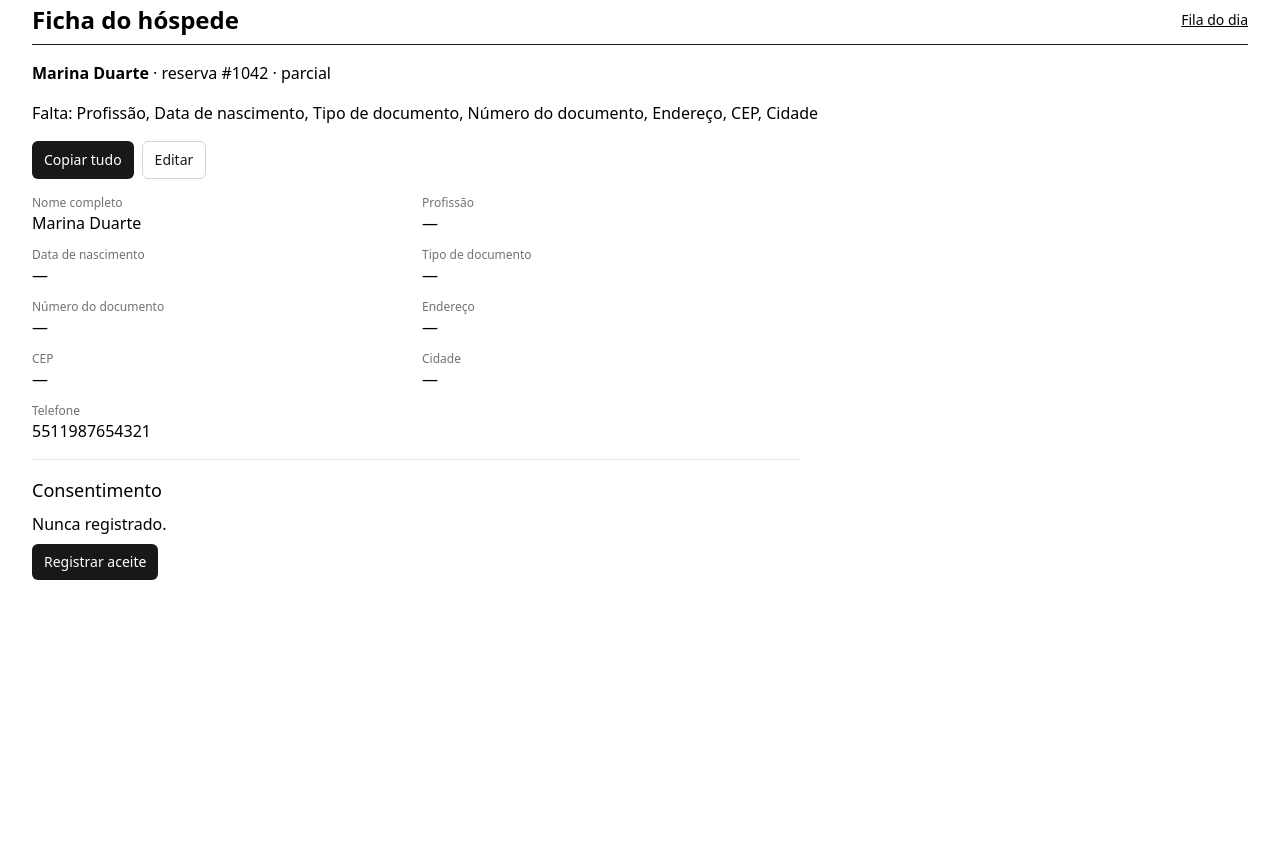
TelaFicha › 409 de documento avisa com nome e liga para a ficha desta casa
Step 1. Click the button "Editar" → click(174, 160), box [142,141,206,179]
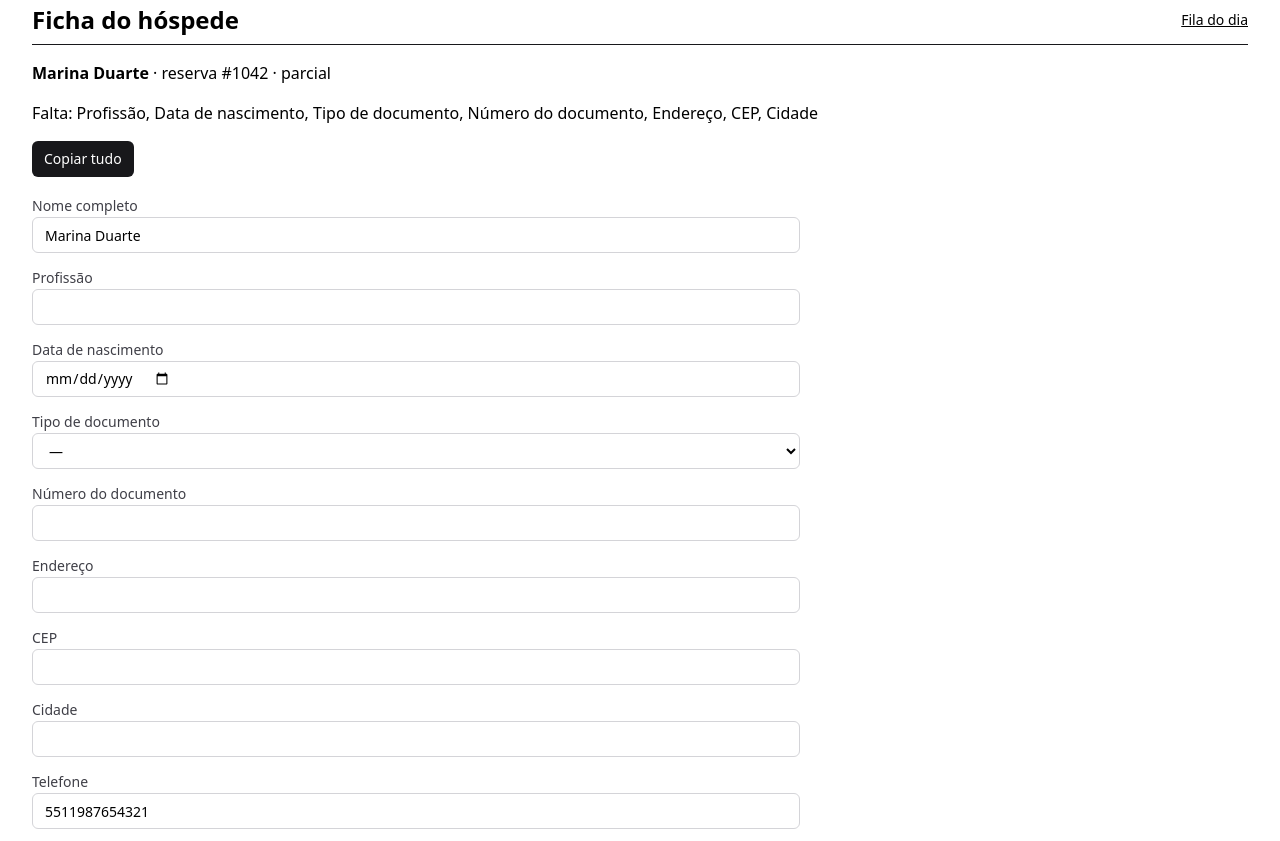
Step 2. Replace the text in the field labelled "Nome completo" with "Nome digitado agora" → (416, 235), box [32,217,800,253]
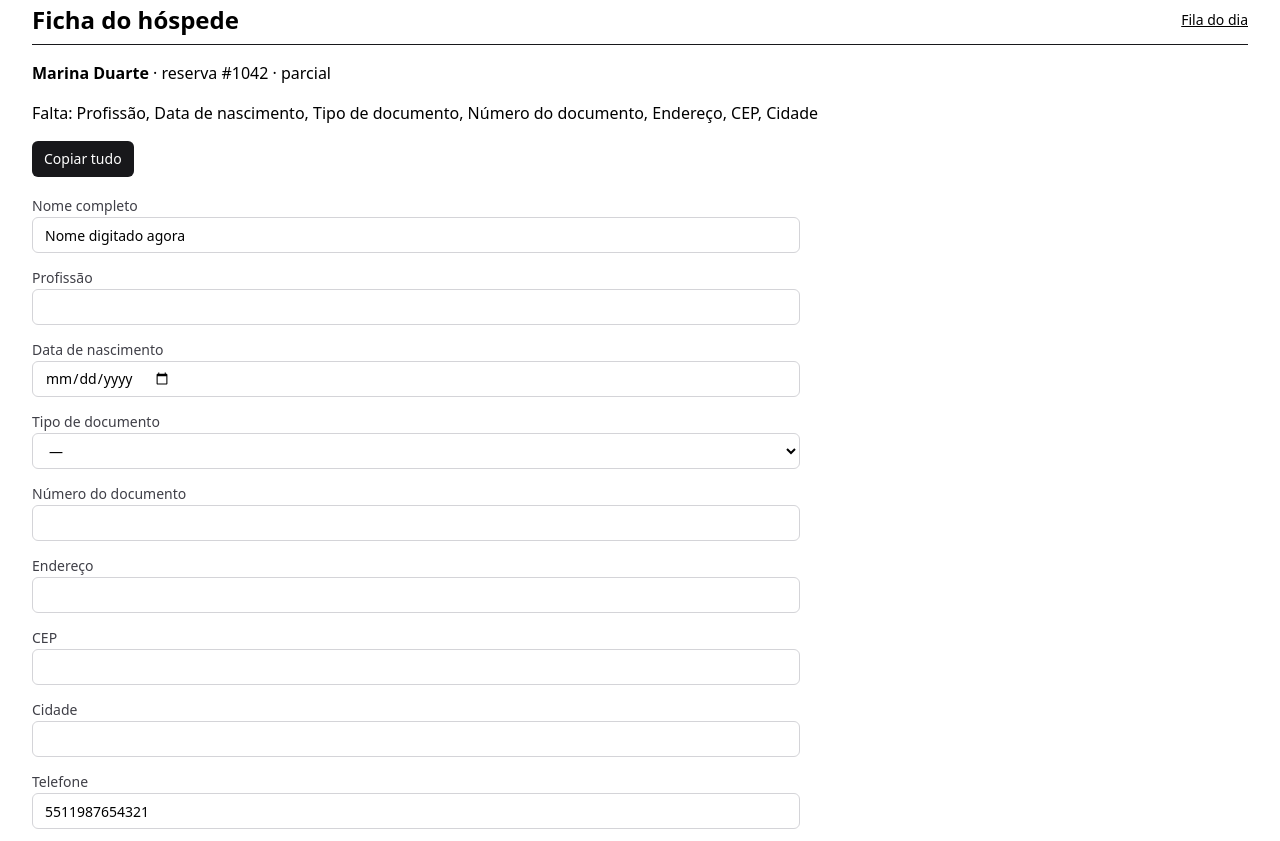
Step 3. Type "1234567" into the field labelled "Número do documento" → (416, 523), box [32,505,800,541]
(page scrolled)
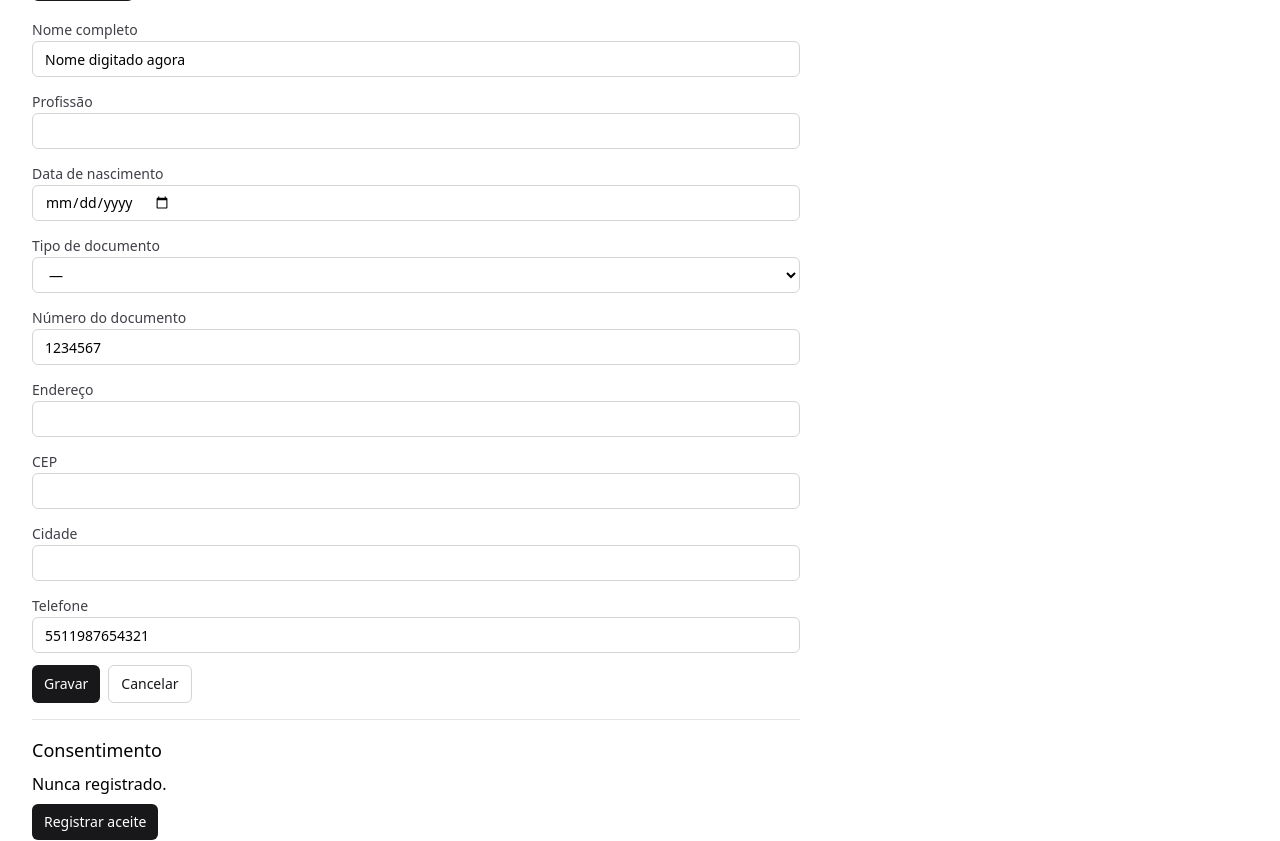
Step 4. Click the button "Gravar" → click(66, 684), box [32,665,100,703]
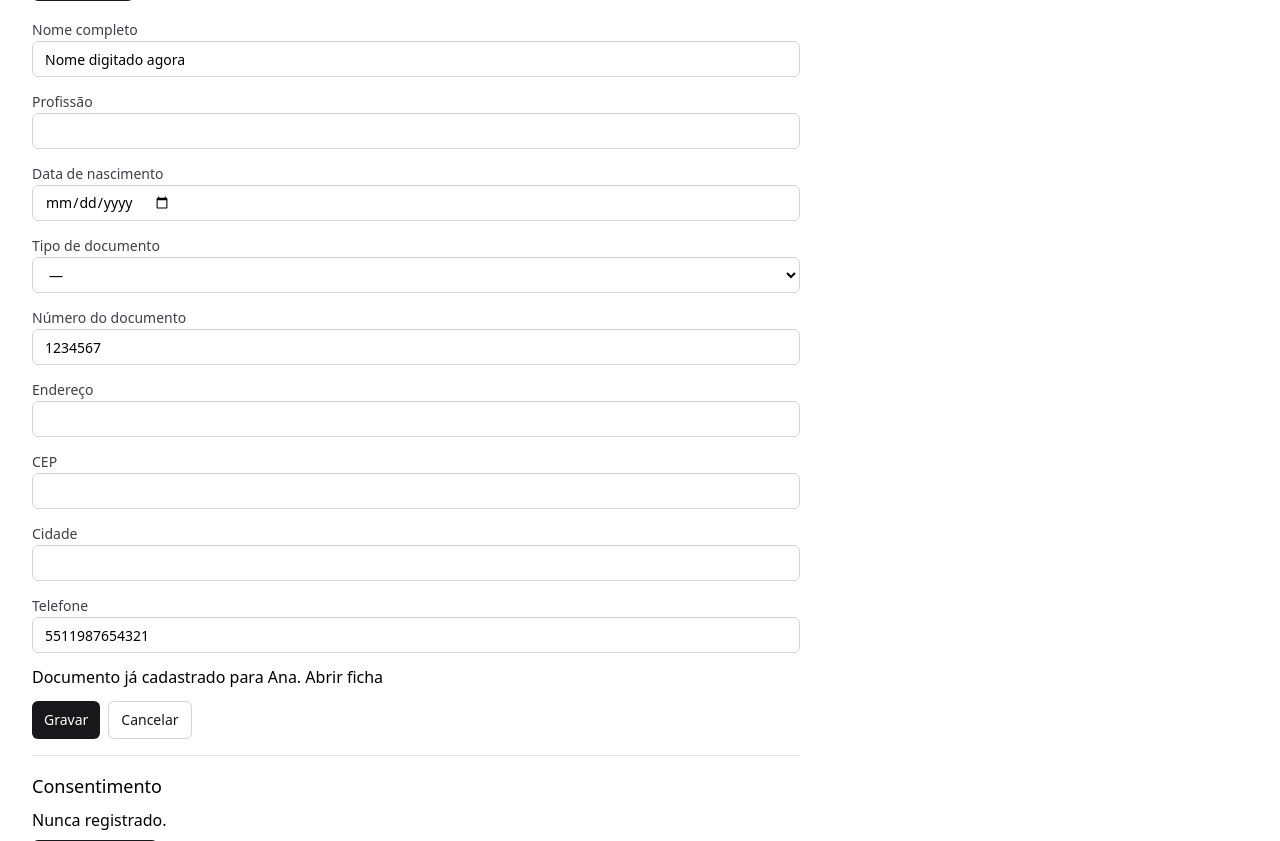
Expected: the text "Documento já cadastrado para Ana" does not show "1234567"
Now the button "Gravar" is shown, box [32,701,100,739]
Now the text "Documento já cadastrado para Ana. Abrir ficha" is shown, box [32,666,383,688]
